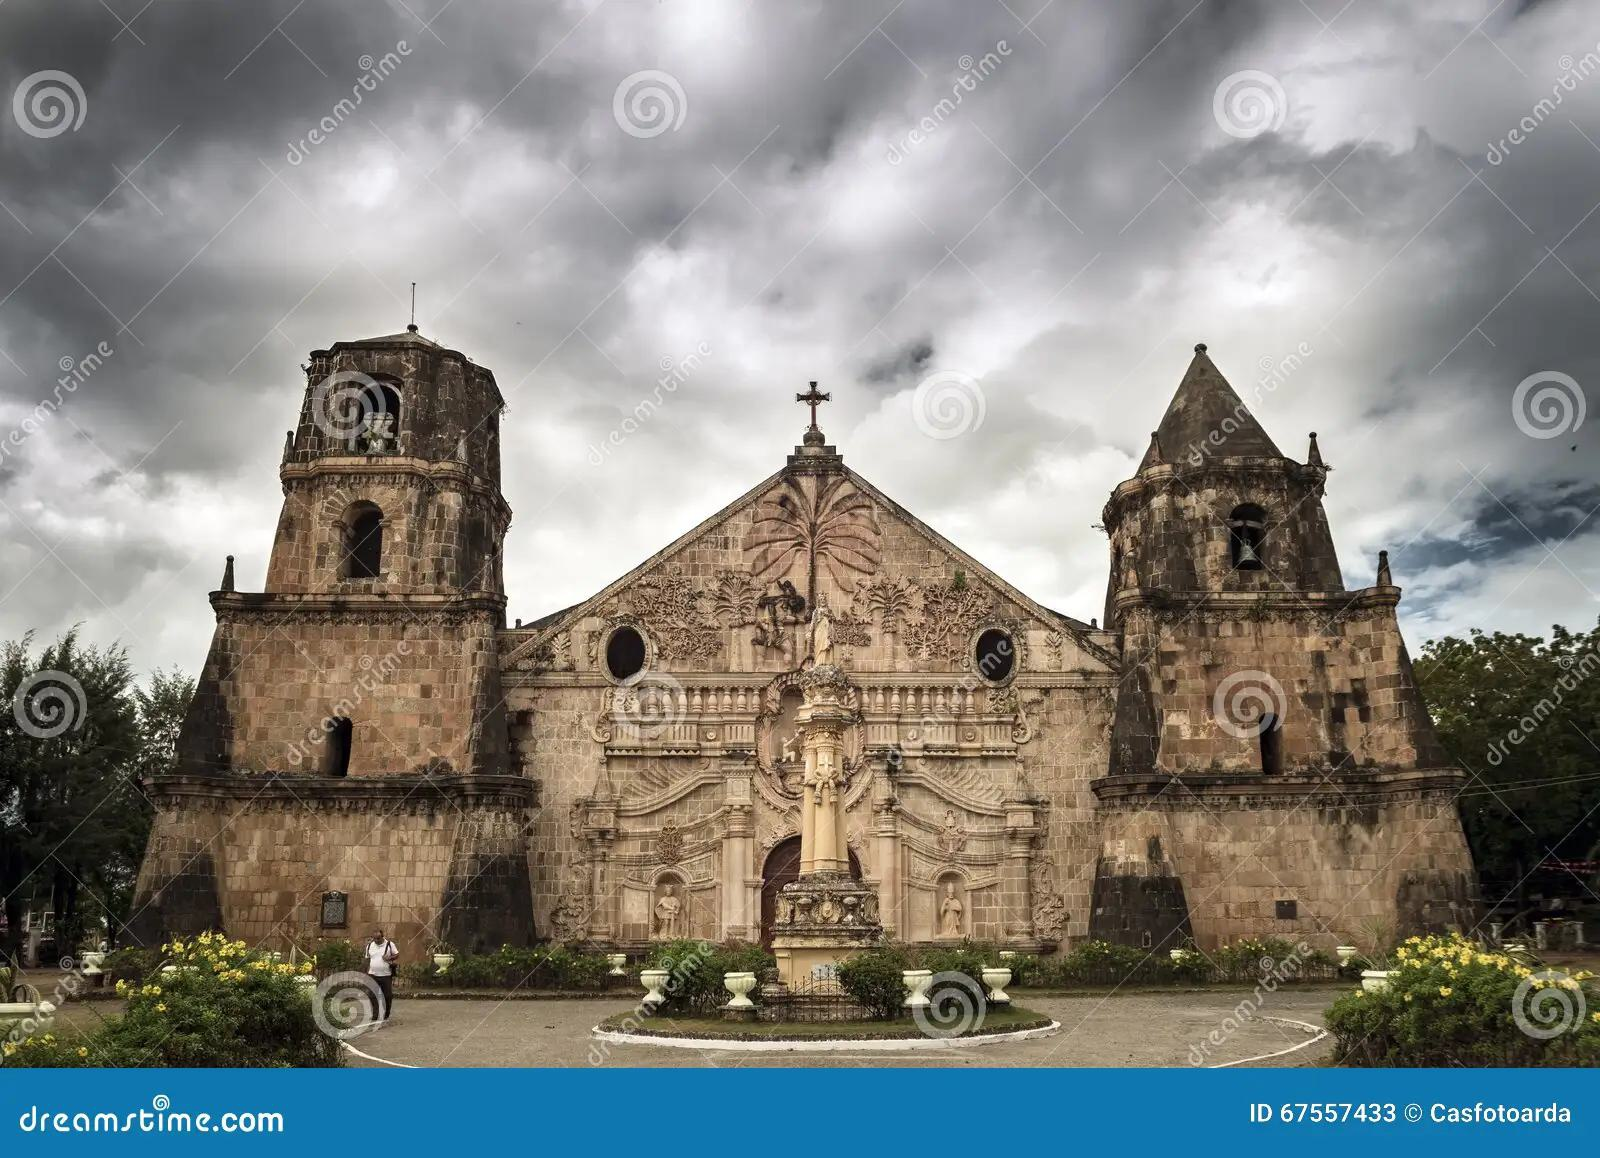miagao_church_miagao_iloilo: (120, 262, 1502, 987)
